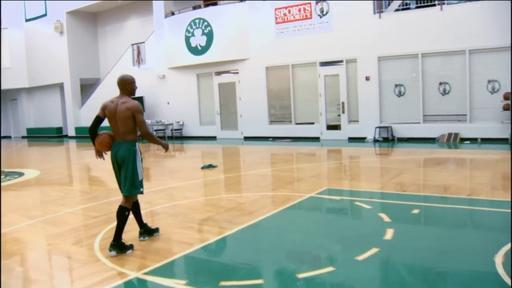ball: (94, 133, 112, 151)
human: (89, 74, 169, 255)
